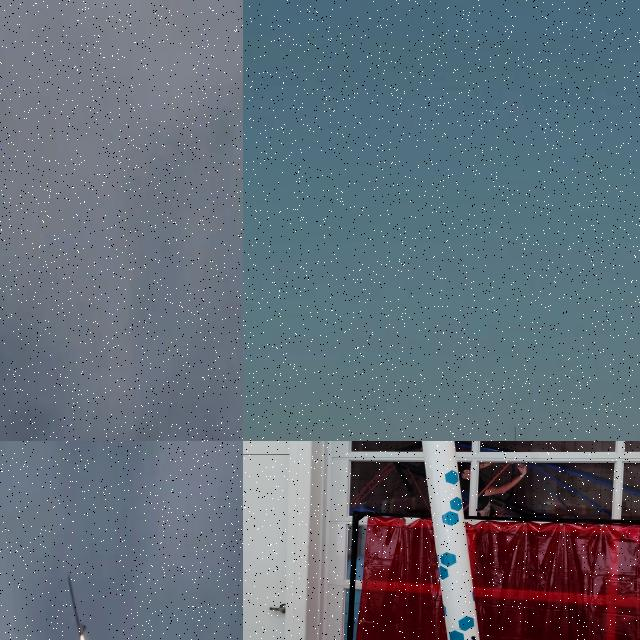Rocket: (422, 441, 480, 640), (68, 575, 86, 635)
